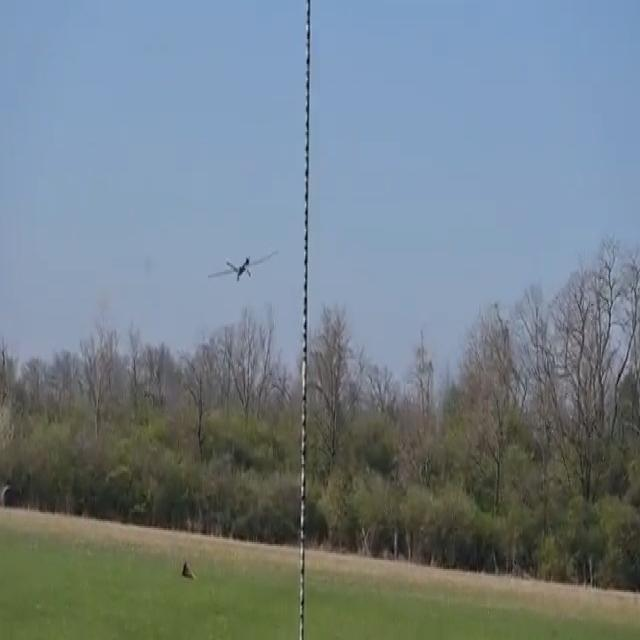iha: (209, 252, 275, 279)
